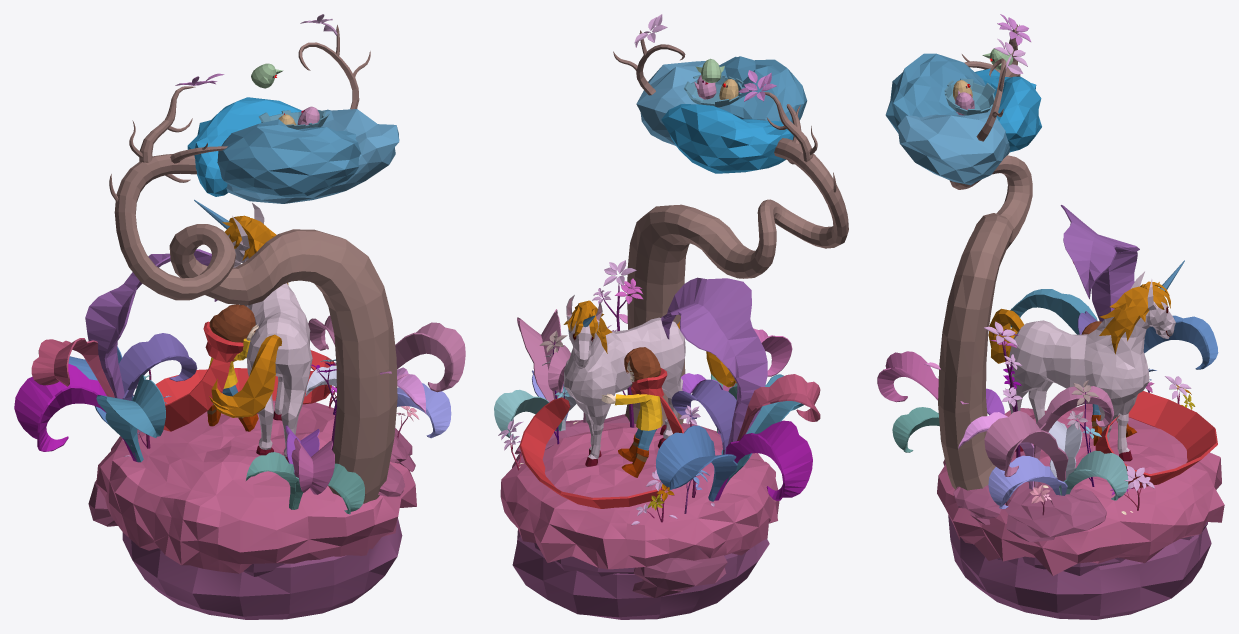
Rendered from HorseAndGirl_chai.FBX.
The picture shows the model from 3 angles, left to right: view 1: azimuth 30°, elevation 25°; view 2: azimuth 150°, elevation 25°; view 3: azimuth 270°, elevation 25°; orthographic projection. The views are drawn at different scales.
Visible parts, largest first — view 1: HoureAndGirl00, HoureAndGirl63, HoureAndGirl73, HoureAndGirl68, HoureAndGirl09, HoureAndGirl24, HoureAndGirl49, HoureAndGirl53, HoureAndGirl66, HoureAndGirl51, HoureAndGirl70, Object005 (+14 smaller); view 2: HoureAndGirl00, HoureAndGirl63, HoureAndGirl68, HoureAndGirl53, HoureAndGirl09, HoureAndGirl66, HoureAndGirl73, HoureAndGirl49, HoureAndGirl24, HoureAndGirl50, HoureAndGirl02, HoureAndGirl52 (+15 smaller); view 3: HoureAndGirl00, HoureAndGirl63, HoureAndGirl68, HoureAndGirl09, HoureAndGirl73, HoureAndGirl01, HoureAndGirl53, HoureAndGirl24, HoureAndGirl70, HoureAndGirl66, Object004, HoureAndGirl27 (+11 smaller).
Boxes of the visible parts, <box> form: HoureAndGirl00: <box>96,400,416,573</box>; HoureAndGirl63: <box>109,25,397,503</box>; HoureAndGirl73: <box>217,109,399,203</box>; HoureAndGirl68: <box>122,518,402,619</box>; HoureAndGirl09: <box>228,203,312,456</box>; HoureAndGirl24: <box>155,350,335,431</box>; HoureAndGirl49: <box>14,363,137,461</box>; HoureAndGirl53: <box>85,249,217,445</box>; HoureAndGirl66: <box>187,97,301,196</box>; HoureAndGirl51: <box>96,374,165,462</box>; HoureAndGirl70: <box>395,322,465,392</box>; Object005: <box>209,334,281,417</box>; HoureAndGirl00: <box>500,423,779,569</box>; HoureAndGirl63: <box>613,30,848,425</box>; HoureAndGirl68: <box>512,529,769,619</box>; HoureAndGirl53: <box>661,277,767,444</box>; HoureAndGirl09: <box>564,295,685,459</box>; HoureAndGirl66: <box>661,104,793,173</box>; HoureAndGirl73: <box>636,56,807,146</box>; HoureAndGirl49: <box>714,420,812,500</box>; HoureAndGirl24: <box>519,396,683,508</box>; HoureAndGirl50: <box>656,425,737,501</box>; HoureAndGirl02: <box>632,555,727,597</box>; HoureAndGirl52: <box>737,374,820,440</box>; HoureAndGirl00: <box>937,404,1224,575</box>; HoureAndGirl63: <box>938,24,1032,490</box>; HoureAndGirl68: <box>948,515,1211,619</box>; HoureAndGirl09: <box>1008,271,1175,453</box>; HoureAndGirl73: <box>885,53,1009,185</box>; HoureAndGirl01: <box>953,481,1106,542</box>; HoureAndGirl53: <box>1060,205,1139,321</box>; HoureAndGirl24: <box>1095,391,1217,488</box>; HoureAndGirl70: <box>984,410,1068,481</box>; HoureAndGirl66: <box>975,68,1041,152</box>; Object004: <box>1099,281,1170,354</box>; HoureAndGirl27: <box>988,455,1067,509</box>.
Bounding box in the file's own units: 21.32 × 31.45 × 18.07.
